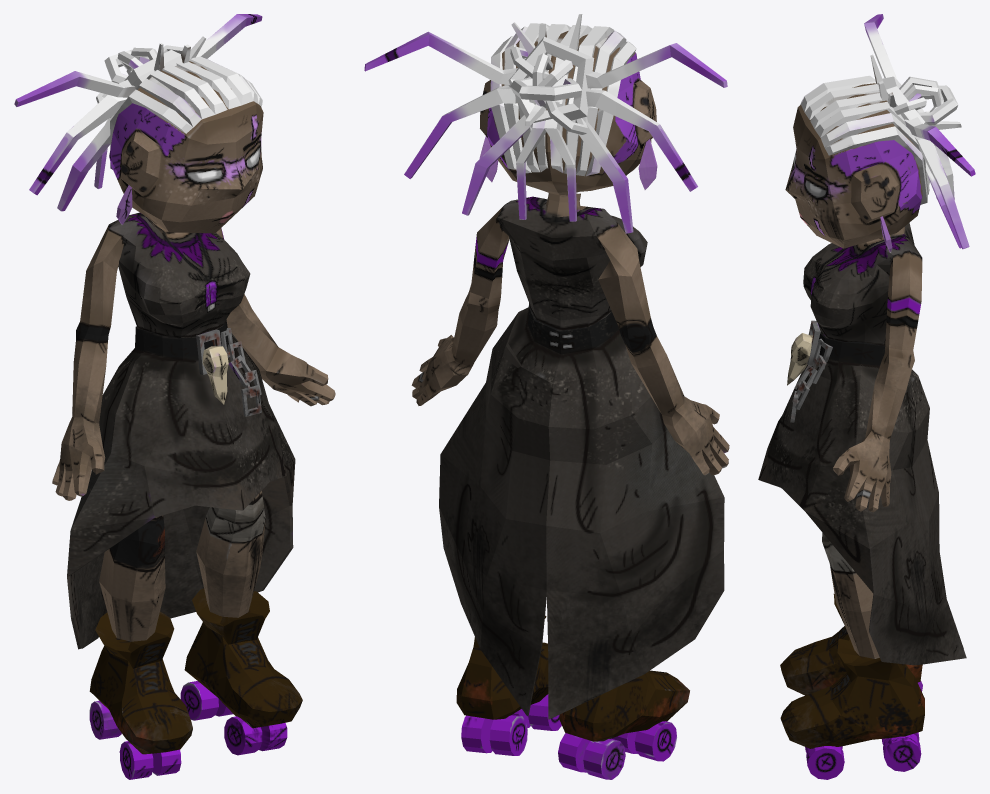
The model's file is bruja_000053.obj.
3 renders of one model, left to right at view 1: azimuth 30°, elevation 25°; view 2: azimuth 150°, elevation 25°; view 3: azimuth 270°, elevation 25°, orthographic. The views are drawn at different scales.
Parts seen in each view (by area): view 1: Bruja_Plane.001; view 2: Bruja_Plane.001; view 3: Bruja_Plane.001.
Part boxes in pixels (left/top/right/bottom): Bruja_Plane.001: left=14, top=14, right=335, bottom=779; Bruja_Plane.001: left=364, top=14, right=729, bottom=779; Bruja_Plane.001: left=758, top=14, right=975, bottom=779.
Bounding box in the file's own units: 7.45 × 16.55 × 4.78.
